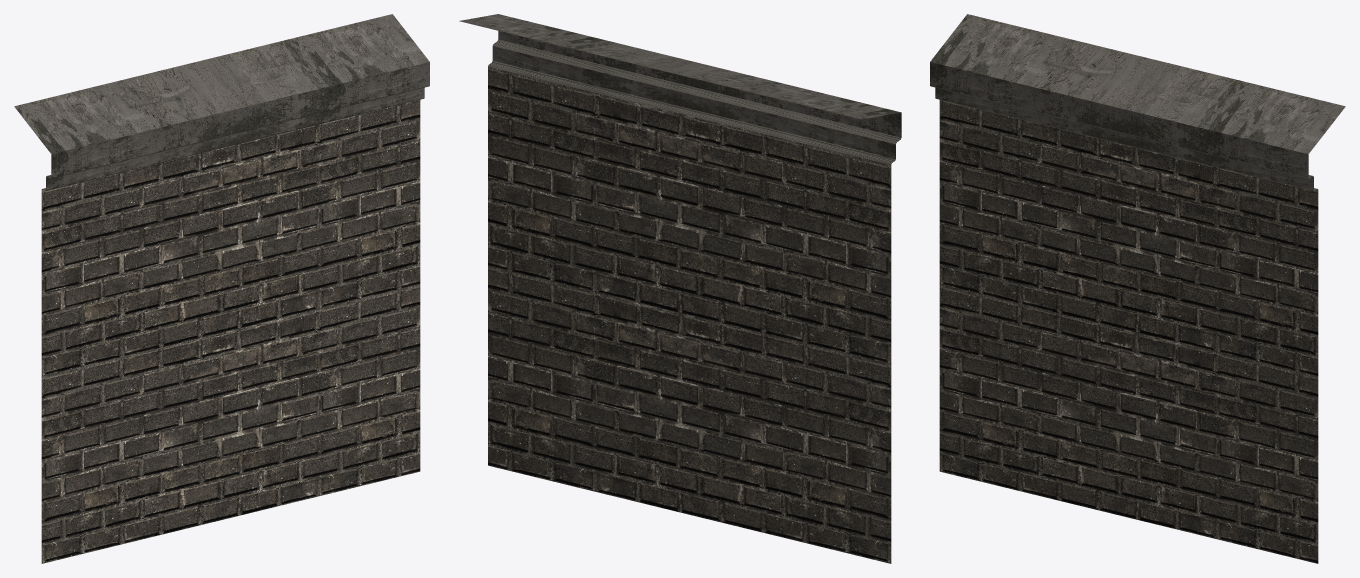
The model's file is WallTileTop.FBX.
The picture shows the model from 3 angles, left to right: view 1: azimuth 30°, elevation 25°; view 2: azimuth 150°, elevation 25°; view 3: azimuth 330°, elevation 25°; orthographic projection. The views are drawn at different scales.
Visible parts, largest first — view 1: WallTileTop; view 2: WallTileTop; view 3: WallTileTop.
Part boxes in pixels (x1,y1,x2,y2): WallTileTop: (14, 14, 429, 563); WallTileTop: (459, 14, 901, 563); WallTileTop: (930, 14, 1345, 563).
Size of the model in its own units: 400 by 442 by 68.22.
2 materials, 2 textured.
